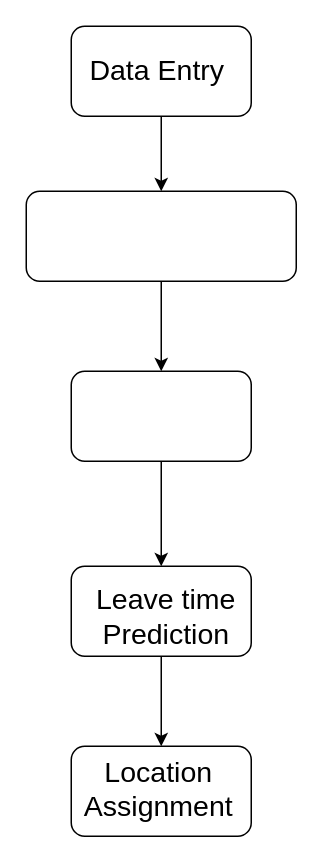
The diagram is 323 pixels wide and 863 high, and some of its shapes have lost their labels. Here are the shapes that lost their labels. From the top down, the box of each, then its label:
(25, 190, 296, 281): Data Cleaning and Processing
(70, 370, 251, 461): Feature Engineering
